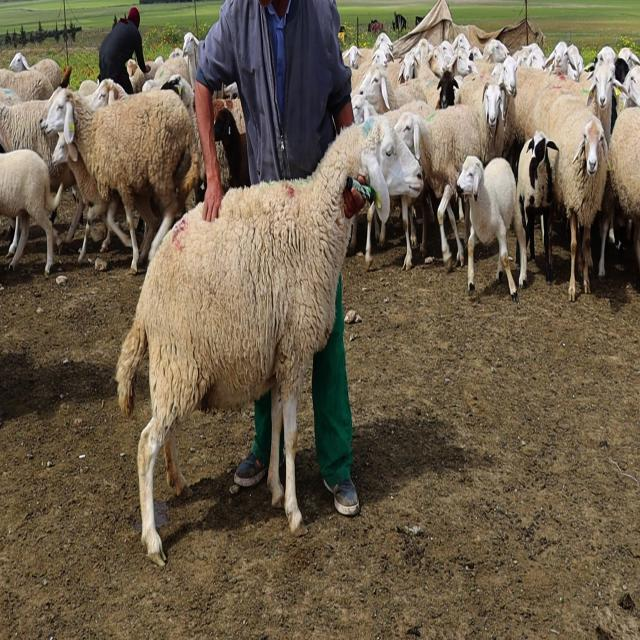Score_5: (116, 116, 423, 565)
